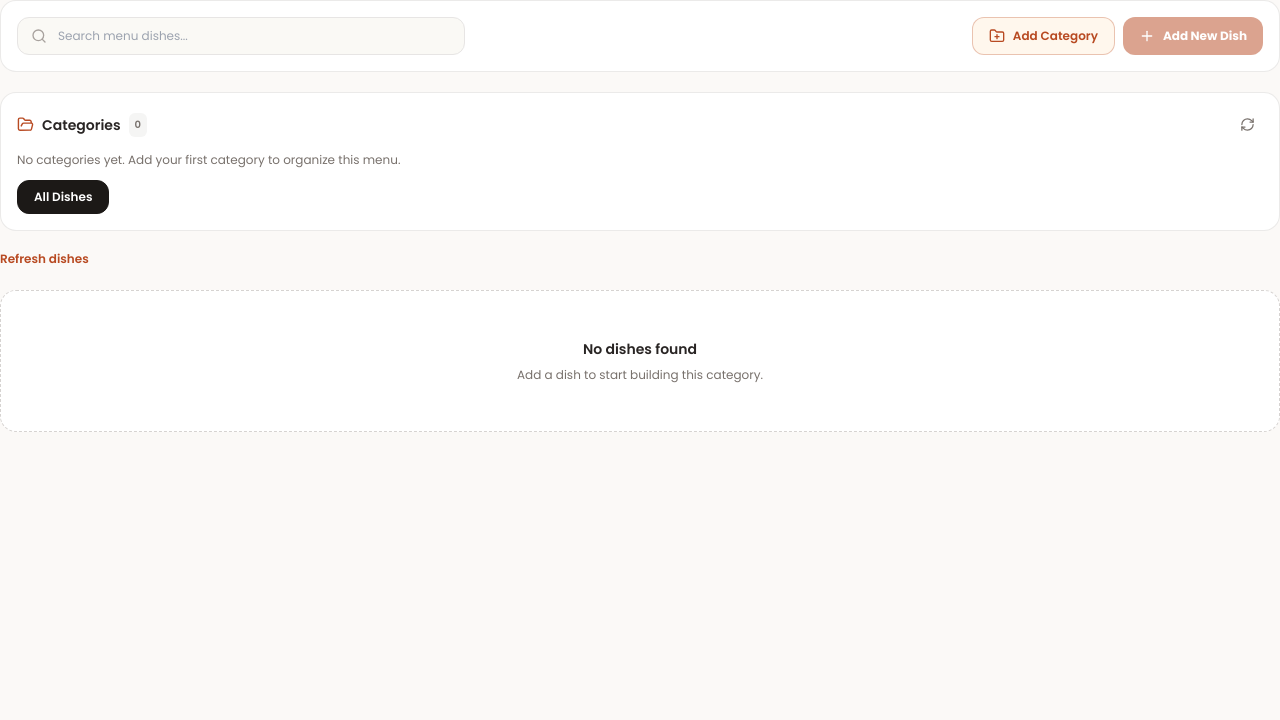
Scenario: menu category creation › disables repeat submits until the server confirms success
Expected: the text "No categories yet" is shown, [17,151,400,168]
Click the button "Add Category".
click(1043, 36)  # box [972,17,1115,55]
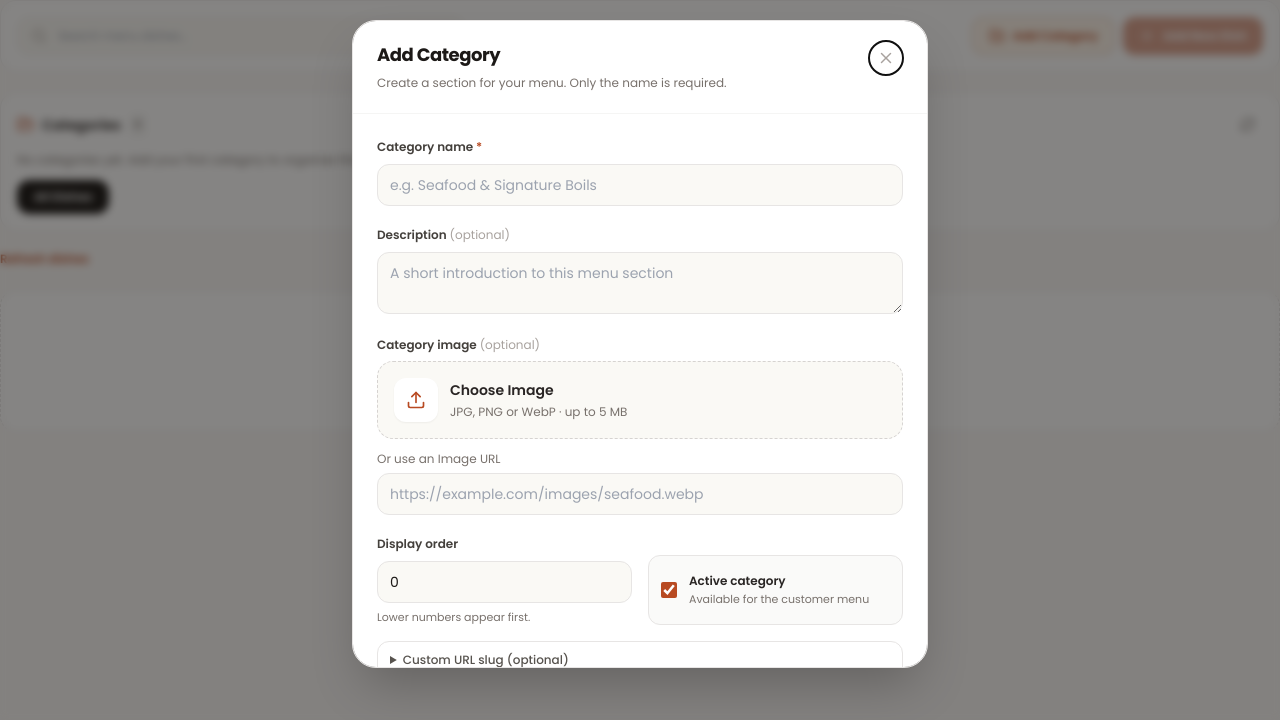
Type "Seafood" into the field labelled "Category name *".
click(640, 184); type("Seafood")  # box [377,164,903,206]
(page scrolled)
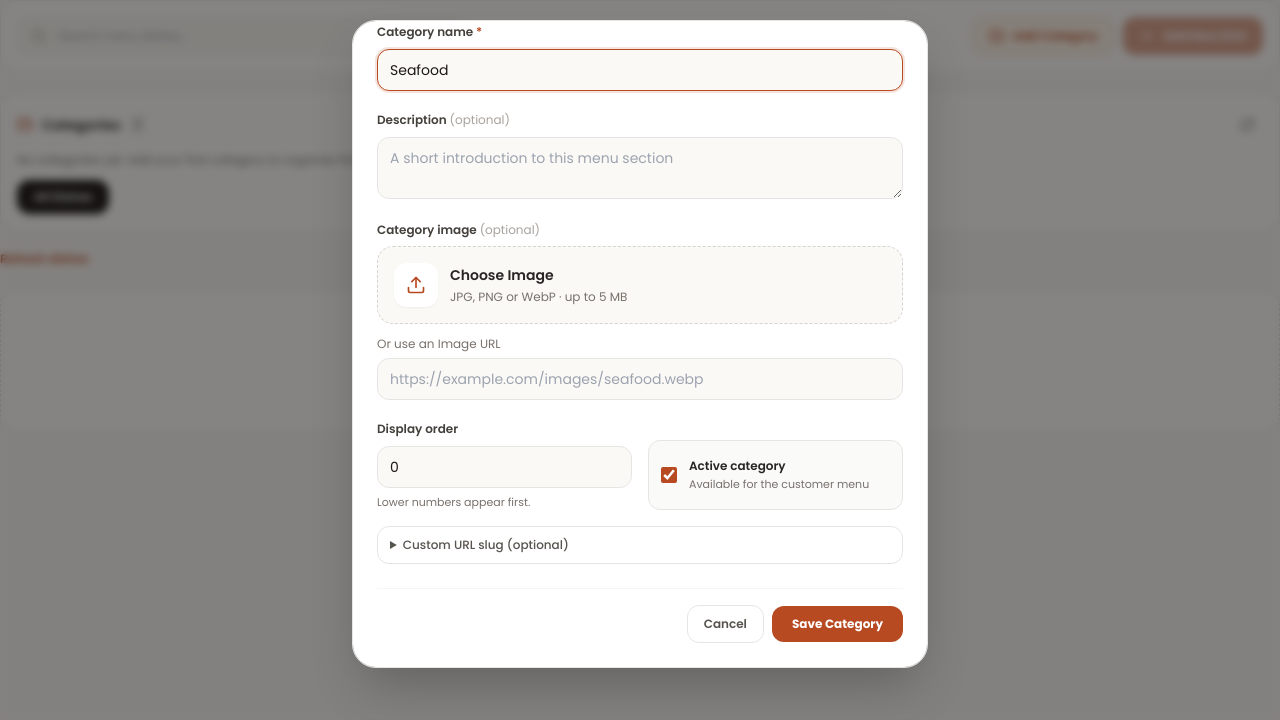
Click the button "Save Category".
click(838, 624)  # box [772,606,903,642]
(page scrolled)
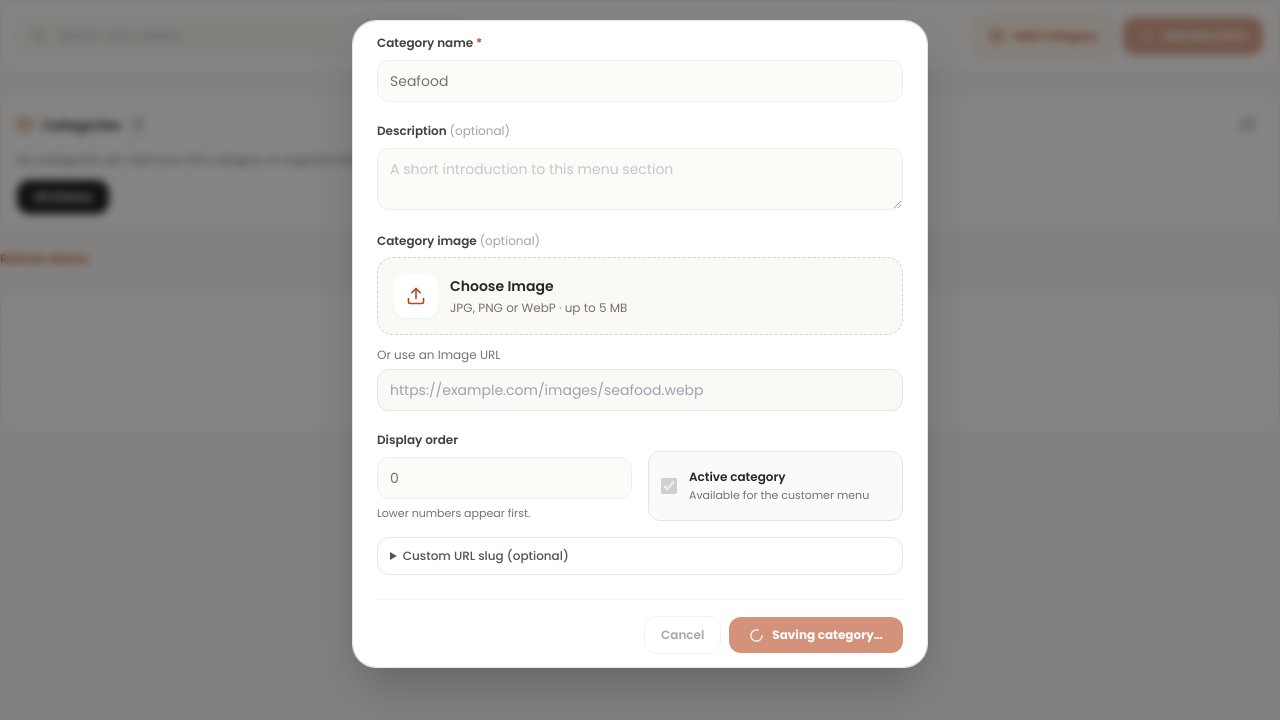
Now the button "Saving category…" is disabled, box [729,617,903,653]
Submit the form labelled "Category name", box [353,10,927,678]
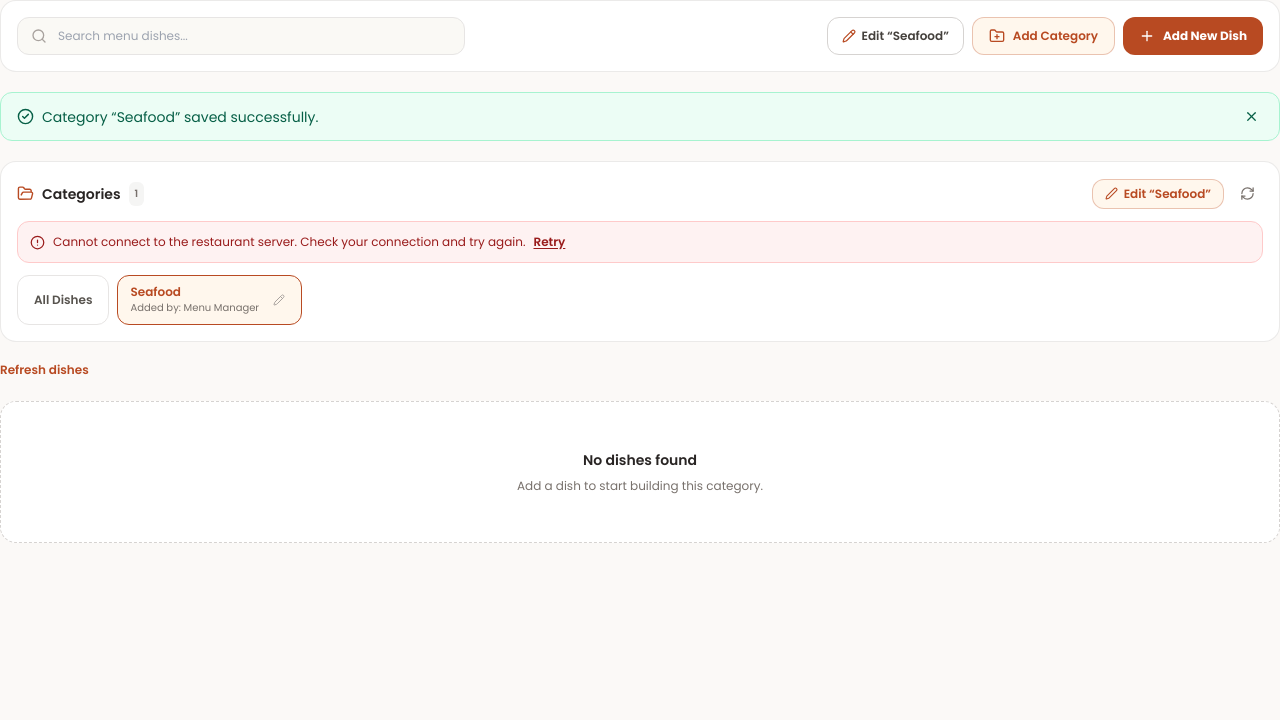
Now the text "Category “Seafood” saved successfully." is shown, box [17,106,318,126]
